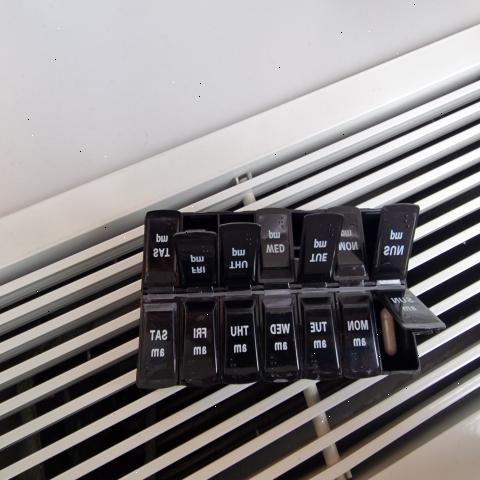Open: (370, 294, 445, 371), (291, 206, 343, 280), (361, 206, 417, 274), (177, 216, 217, 235), (219, 213, 256, 225)
